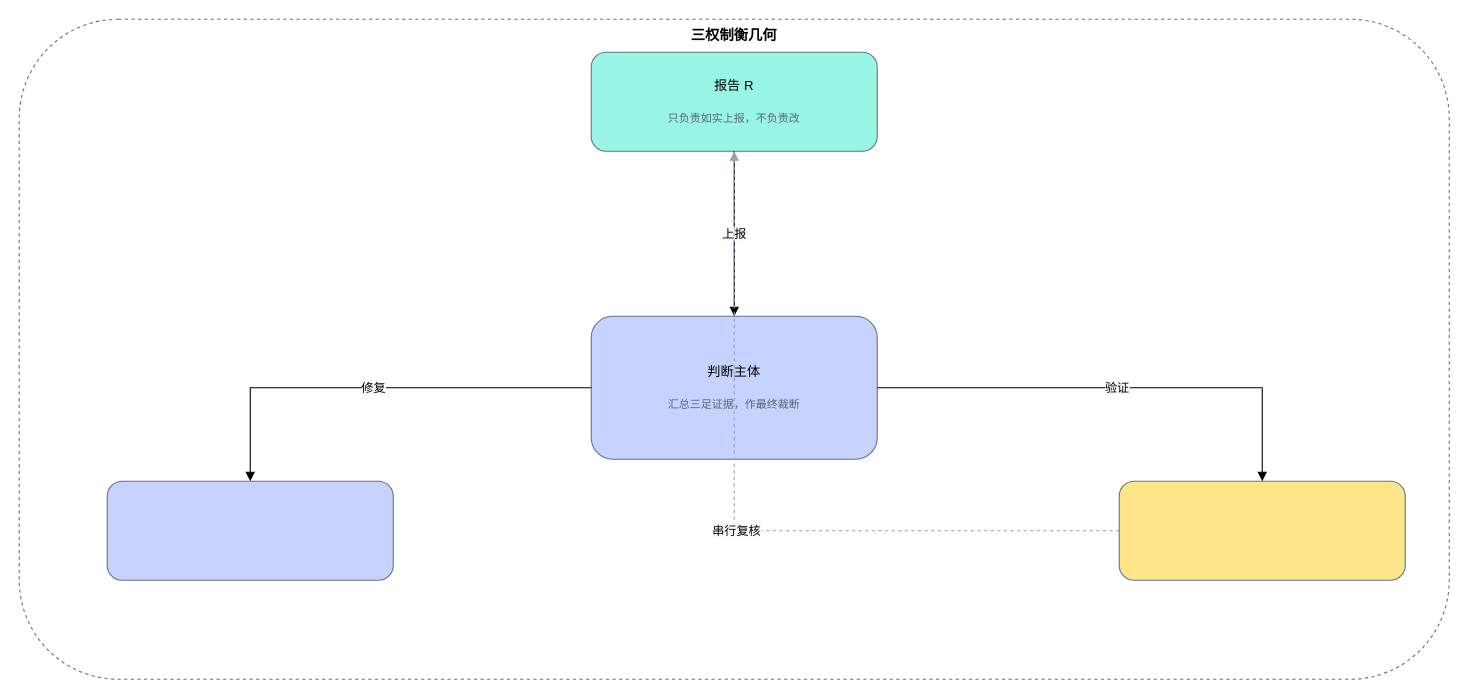
Image size: 1469x699. Some labels were removed from this diagram. The shapes that lost their labels are listed below. From the top down, each one's box as (x1, y1, x2, y2) in pixels, then its label:
(106, 480, 393, 580): 修复 F 只负责消除根因
(1118, 480, 1405, 580): 验证 V 只负责用可复现基准裁断
